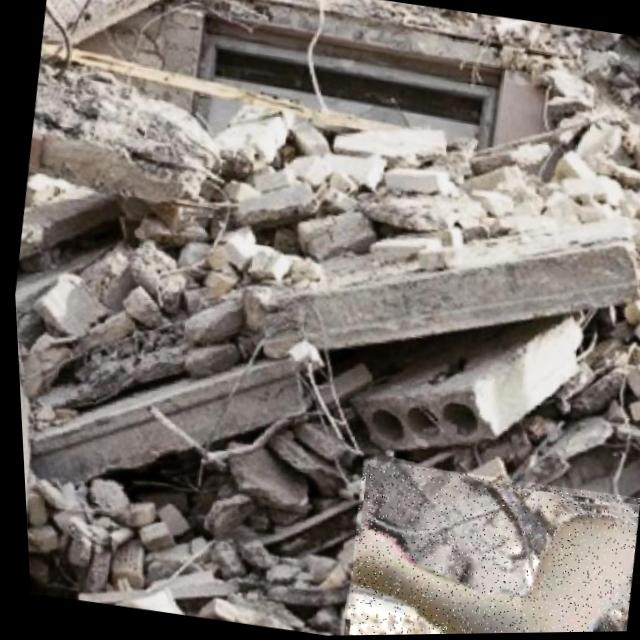Person in Rubble: (330, 457, 640, 636)
